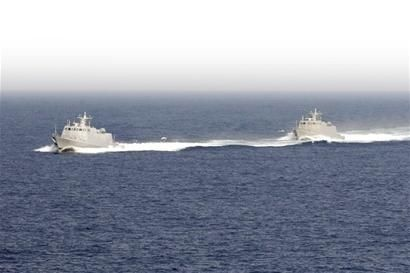warship: (43, 114, 120, 152), (287, 107, 344, 145)
